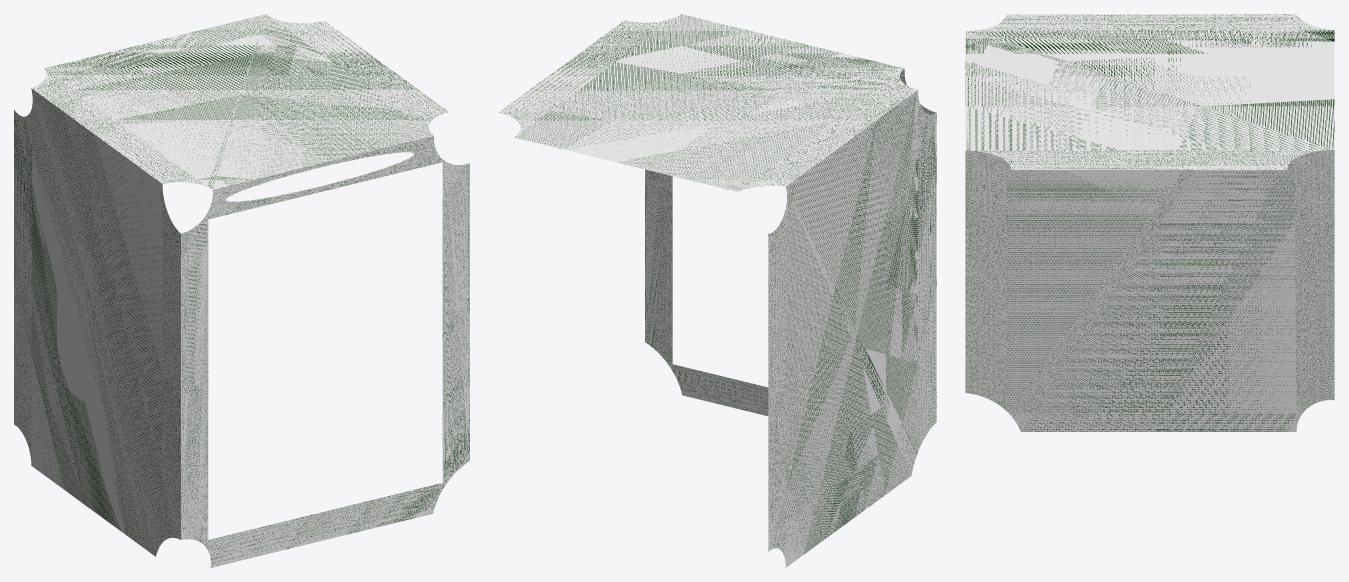
The model's file is original-25.obj.
The picture shows the model from 3 angles, left to right: view 1: azimuth 30°, elevation 25°; view 2: azimuth 150°, elevation 25°; view 3: azimuth 270°, elevation 25°; orthographic projection. The views are drawn at different scales.
Visible parts, largest first — view 1: mesh33/mesh33-geometry/material_5#mesh33-geometry; view 2: mesh33/mesh33-geometry/material_5#mesh33-geometry; view 3: mesh33/mesh33-geometry/material_5#mesh33-geometry.
Part boxes in pixels (x1,y1,x2,y2): mesh33/mesh33-geometry/material_5#mesh33-geometry: [14, 14, 469, 567]; mesh33/mesh33-geometry/material_5#mesh33-geometry: [498, 14, 936, 567]; mesh33/mesh33-geometry/material_5#mesh33-geometry: [965, 14, 1334, 431].
Size of the model in its own units: 1.07 by 1.33 by 1.07.
